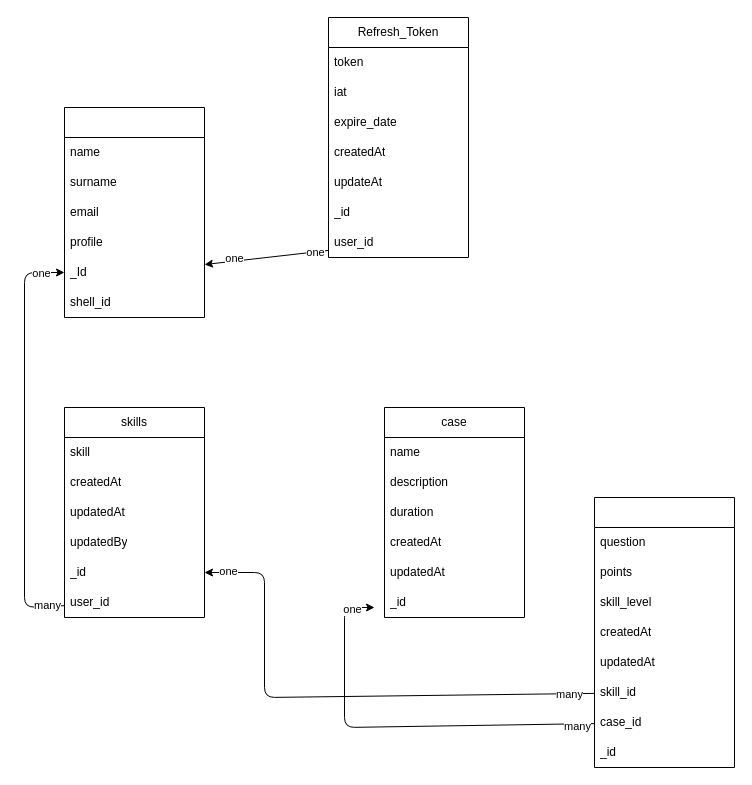
This 752x785 diagram has some shape labels left out. Each missing label, with the box of its shape:
questions: (594, 496, 734, 768)
User: (64, 106, 204, 318)
